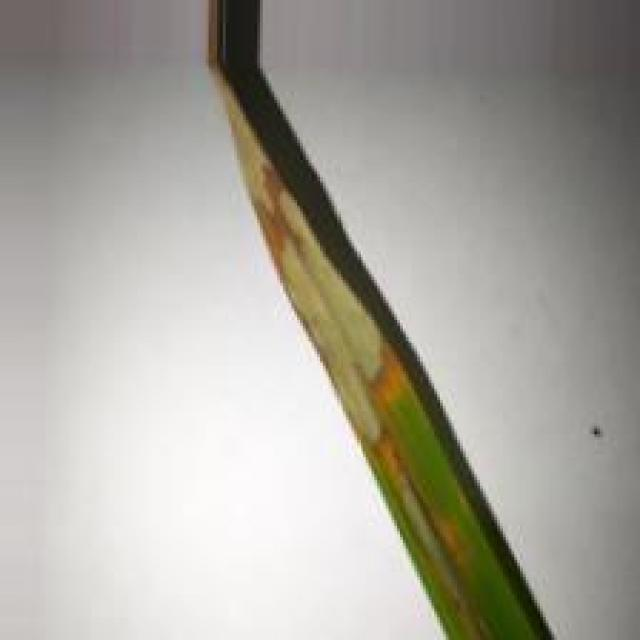Leaf_Scald: (202, 1, 555, 640)
